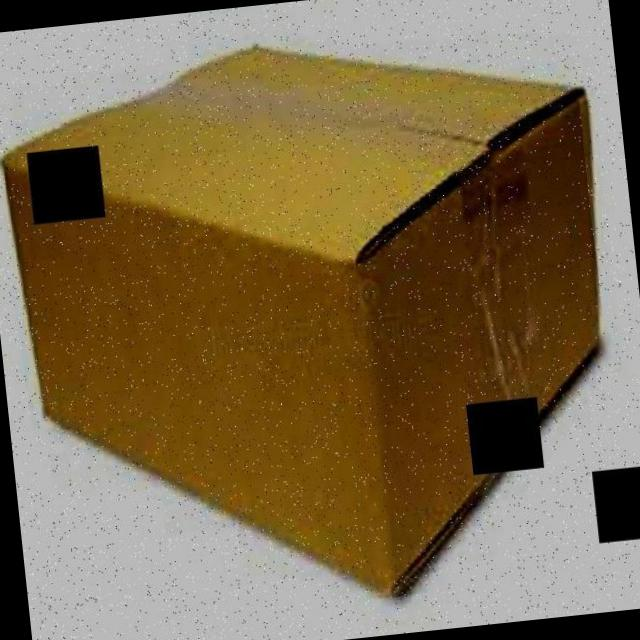box: (0, 12, 628, 633)
